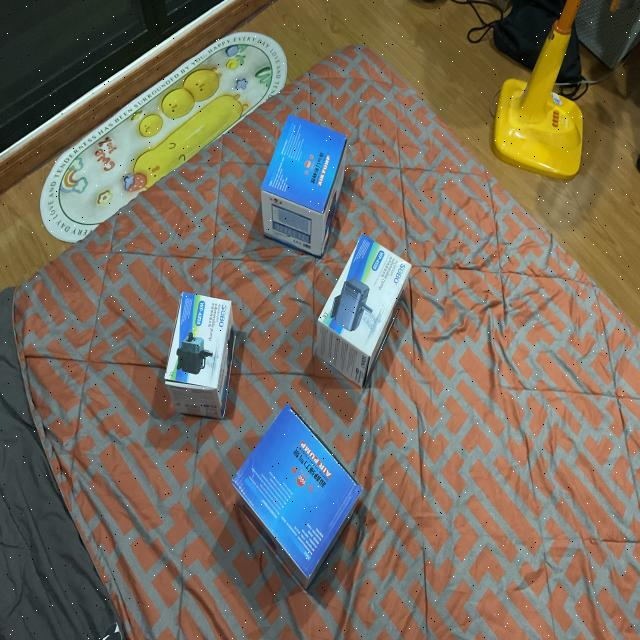SOBO_WP_4200: (311, 234, 429, 408), (161, 272, 243, 421)
YAMANO_LPP_20: (220, 402, 382, 596), (256, 97, 360, 260)
